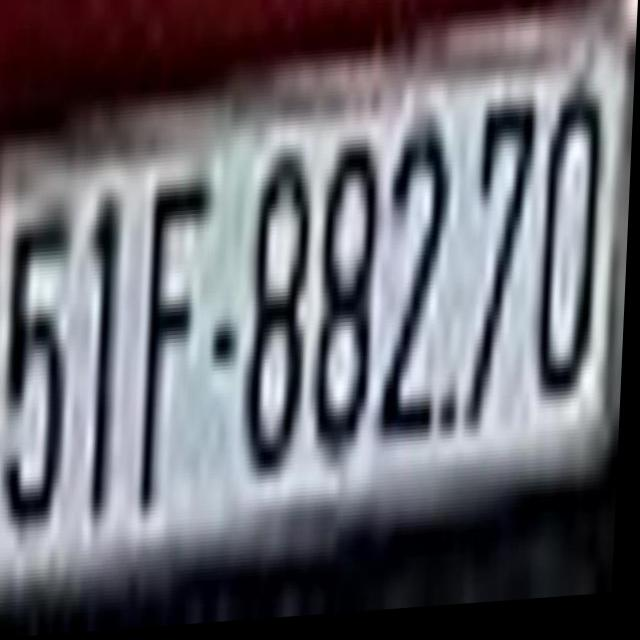0: (539, 93, 603, 414)
1: (80, 175, 128, 526)
2: (382, 113, 452, 450)
5: (2, 193, 77, 550)
7: (468, 96, 539, 457)
8: (246, 125, 319, 477), (313, 144, 381, 473)
F: (141, 170, 213, 522)
